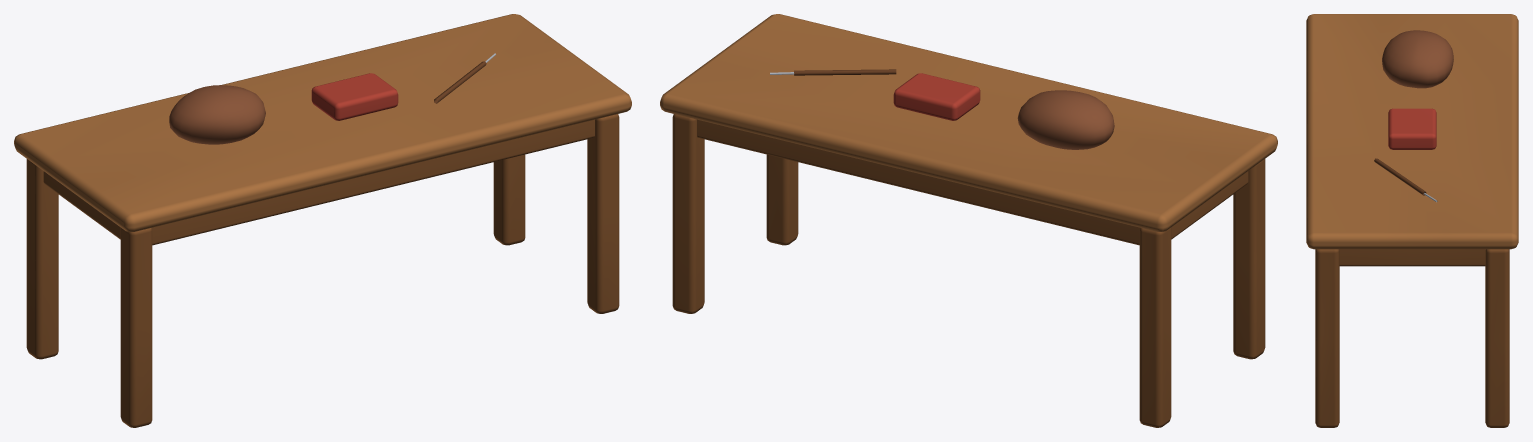
Rendered from furn_work_table.glb.
3 views of the same model, side by side, from view 1: azimuth 30°, elevation 25°; view 2: azimuth 150°, elevation 25°; view 3: azimuth 270°, elevation 25° (orthographic). The views are drawn at different scales.
Visible parts, largest first — view 1: furn_work_table_main; view 2: furn_work_table_main; view 3: furn_work_table_main.
Part boxes in pixels (x1,y1,x2,y2): furn_work_table_main: [14, 14, 631, 427]; furn_work_table_main: [660, 14, 1277, 427]; furn_work_table_main: [1306, 14, 1518, 427].
Bounding box in the file's own units: 1.75 × 0.87 × 0.7.
